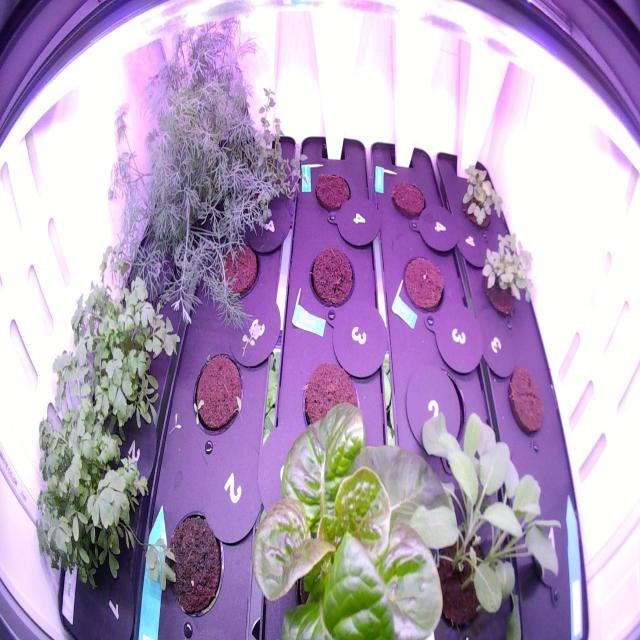empty_pod: (401, 364, 473, 458), (518, 492, 579, 601)
germination: (477, 224, 536, 323), (456, 155, 509, 231)
pod: (157, 501, 234, 625), (292, 356, 364, 456), (187, 345, 246, 447), (206, 226, 260, 315), (303, 237, 360, 314), (505, 360, 550, 445), (399, 251, 448, 320), (309, 164, 355, 221), (386, 171, 432, 227)
young: (244, 394, 460, 640)
